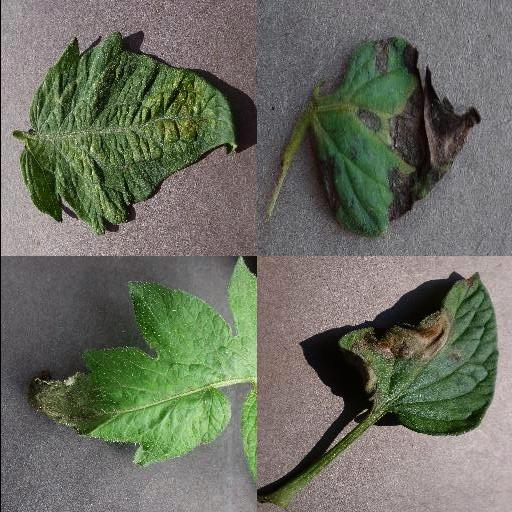Early Blight: (306, 34, 482, 236)
Late Blight: (26, 256, 256, 466), (333, 273, 499, 435)
Spider Mites: (17, 30, 237, 234)
